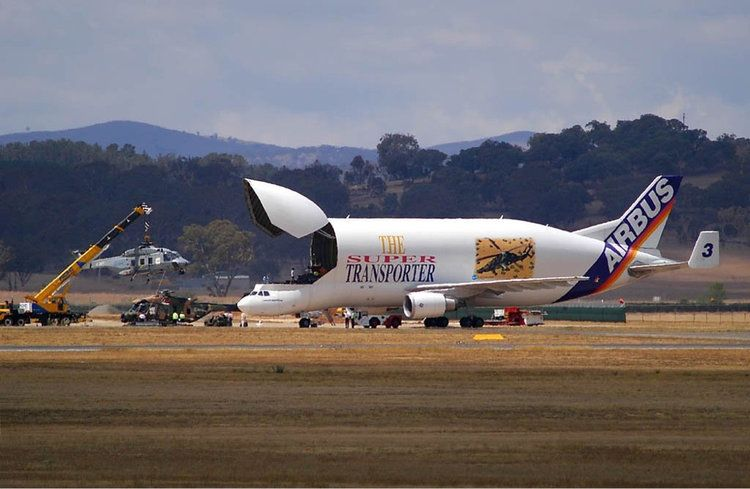Aeronef_commercial: (229, 165, 728, 334)
Aeronef_militaire: (114, 286, 238, 329), (67, 241, 196, 282)
